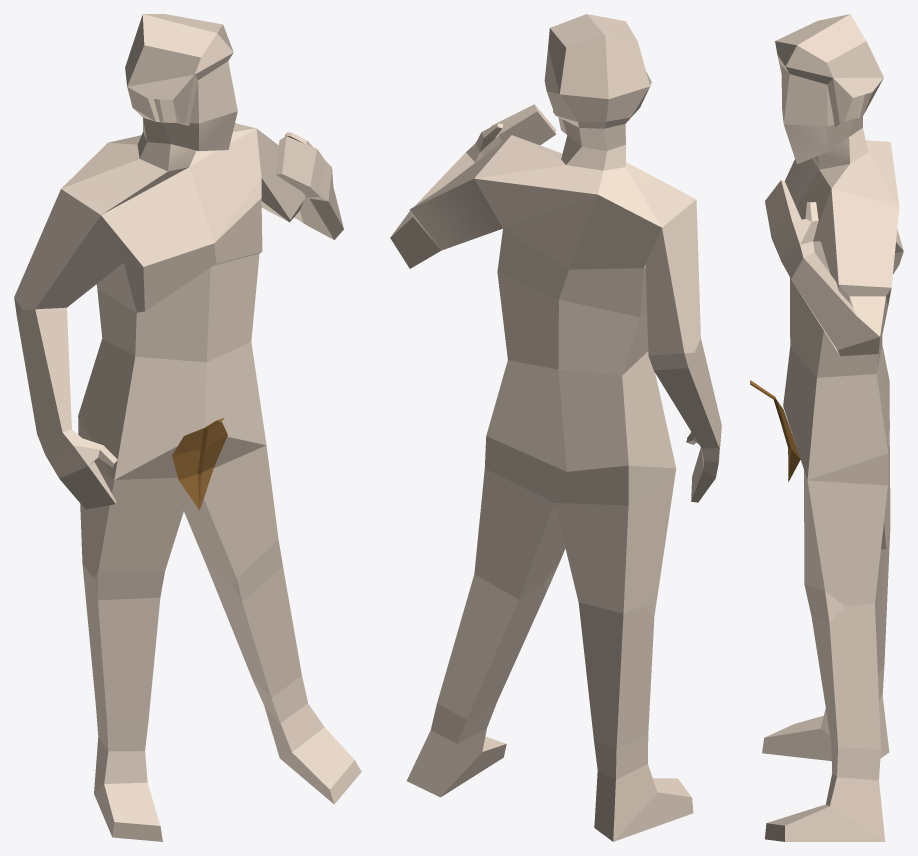
File: empire-statue-small-david-empire.glb
3 views of the same model, side by side, from view 1: azimuth 30°, elevation 25°; view 2: azimuth 150°, elevation 25°; view 3: azimuth 270°, elevation 25° (orthographic). The views are drawn at different scales.
Parts seen in each view (by area): view 1: SM_Statue_Small_David_Empire; view 2: SM_Statue_Small_David_Empire; view 3: SM_Statue_Small_David_Empire.
Part boxes in pixels (x1,y1,x2,y2): SM_Statue_Small_David_Empire: [14, 14, 361, 841]; SM_Statue_Small_David_Empire: [390, 14, 721, 841]; SM_Statue_Small_David_Empire: [750, 14, 903, 841].
Size of the model in its own units: 0.7249 by 1.77 by 0.3257.
